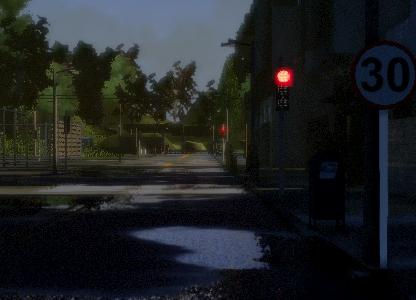Speed_30: (350, 41, 416, 115)
